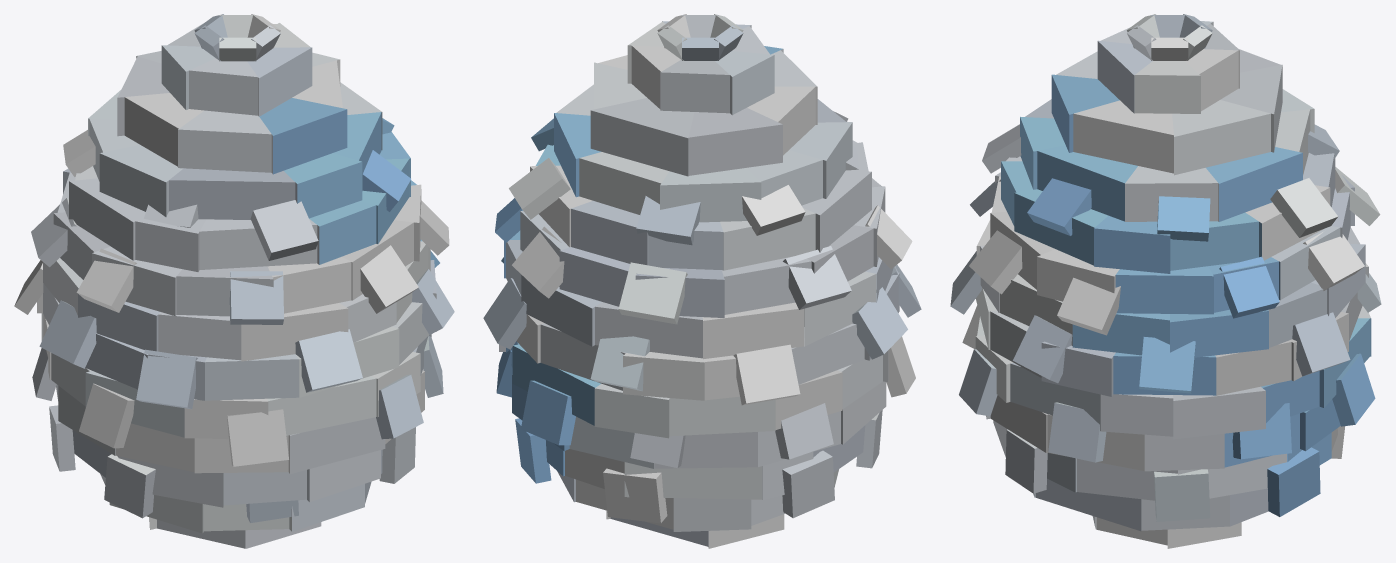
Rendered from yeti_egg.glb.
3 renders of one model, left to right at view 1: azimuth 30°, elevation 25°; view 2: azimuth 150°, elevation 25°; view 3: azimuth 270°, elevation 25°, orthographic.
Parts seen in each view (by area): view 1: yeti_egg; view 2: yeti_egg; view 3: yeti_egg.
Part boxes in pixels (x1,y1,x2,y2): yeti_egg: (14,14,454,548); yeti_egg: (483,14,921,548); yeti_egg: (950,14,1381,548).
Bounding box in the file's own units: 0.95 × 1.15 × 0.9354.
